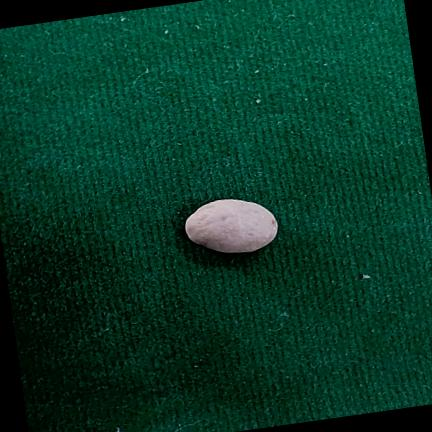husk: (184, 199, 277, 252)
